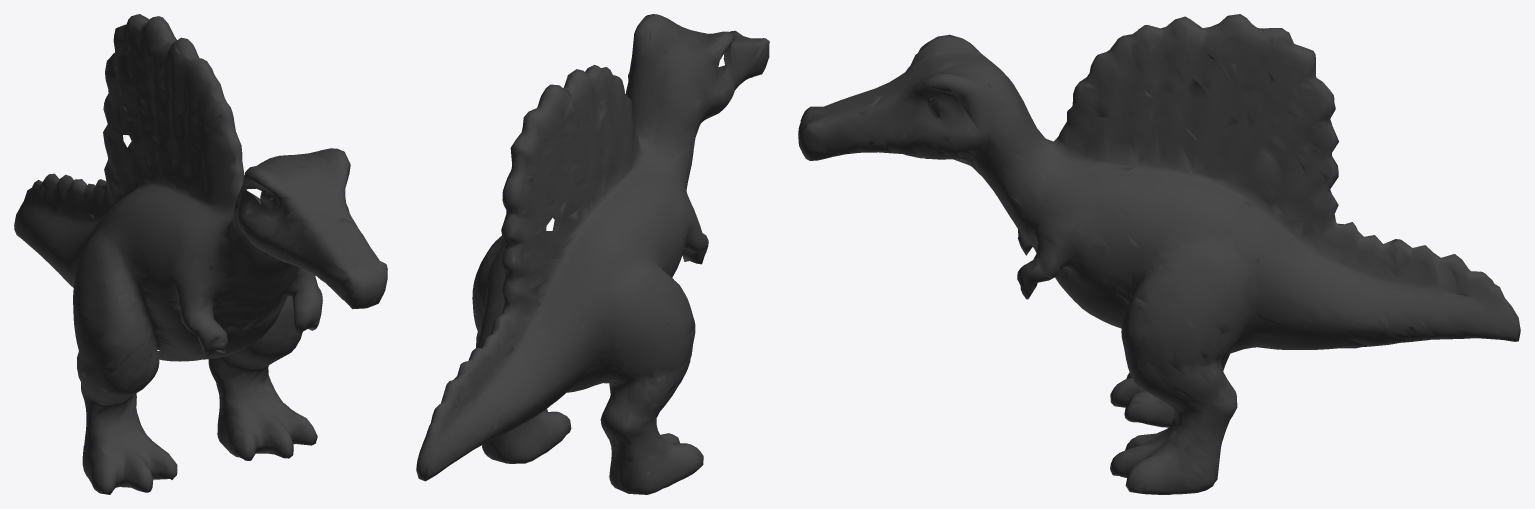
Rendered from spinosaurus.glb.
3 renders of one model, left to right at view 1: azimuth 30°, elevation 25°; view 2: azimuth 150°, elevation 25°; view 3: azimuth 270°, elevation 25°, orthographic. The views are drawn at different scales.
Parts seen in each view (by area): view 1: geometry_0; view 2: geometry_0; view 3: geometry_0.
Boxes of the visible parts, x1=… form: geometry_0: x1=14, y1=14, x2=387, y2=494; geometry_0: x1=416, y1=14, x2=769, y2=494; geometry_0: x1=798, y1=14, x2=1520, y2=494.
Size of the model in its own units: 0.3598 by 0.6651 by 1.
Materials: 1 (1 with a texture image).
